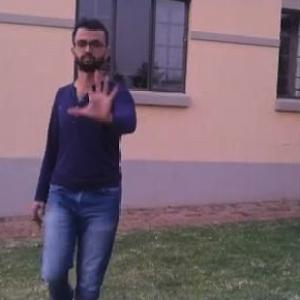follow_hand: (64, 65, 121, 126)
